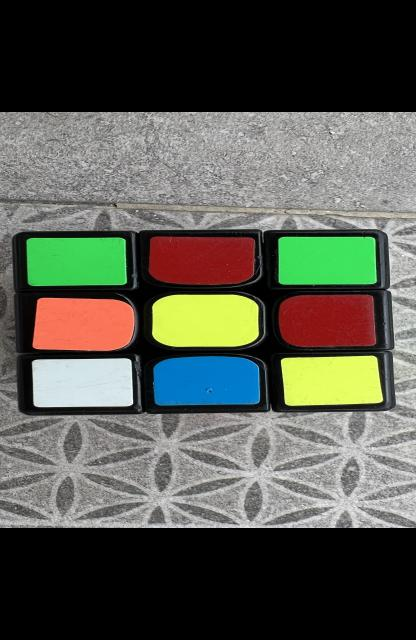Blue: (151, 357, 258, 405)
Green: (25, 237, 126, 286), (276, 236, 376, 285)
Orange: (31, 298, 133, 351)
Red: (148, 236, 255, 285), (278, 295, 375, 347)
White: (31, 358, 133, 407)
Yellow: (151, 295, 258, 347), (280, 356, 381, 405)
